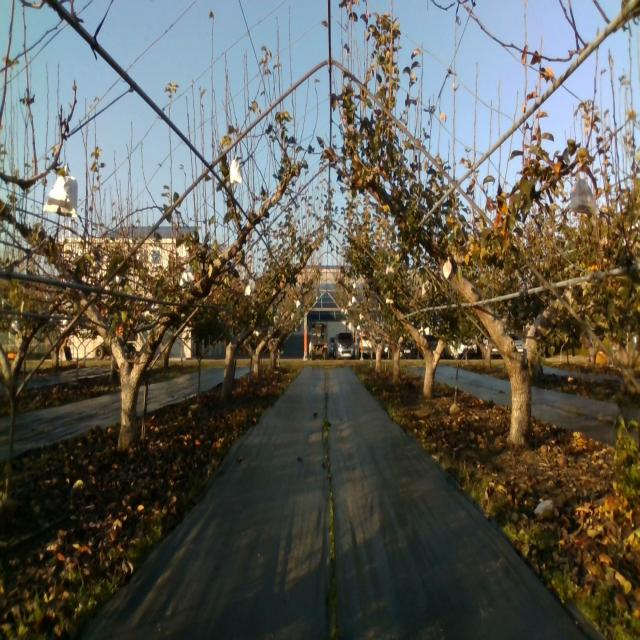pearbags: (43, 164, 77, 216), (566, 175, 598, 216), (179, 263, 195, 287), (230, 156, 242, 184), (443, 257, 453, 284)
